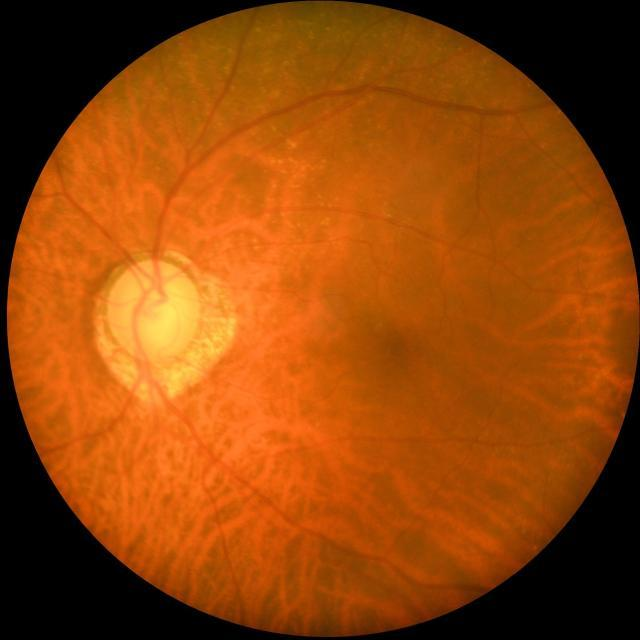OC: (128, 286, 178, 344)
OD: (106, 258, 200, 360)
